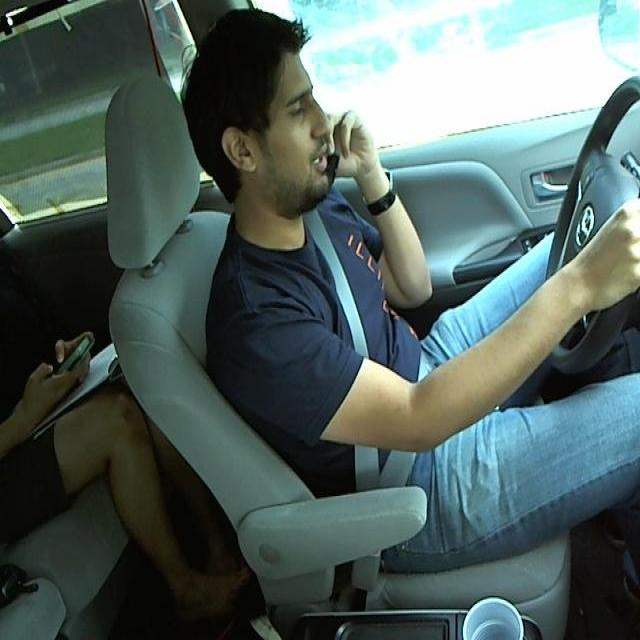using_phone: (113, 5, 418, 248)
